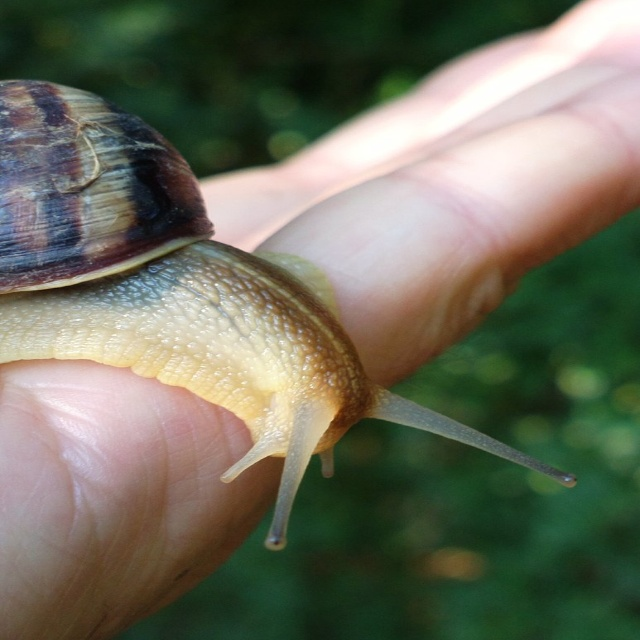Snail: (0, 77, 580, 554)
